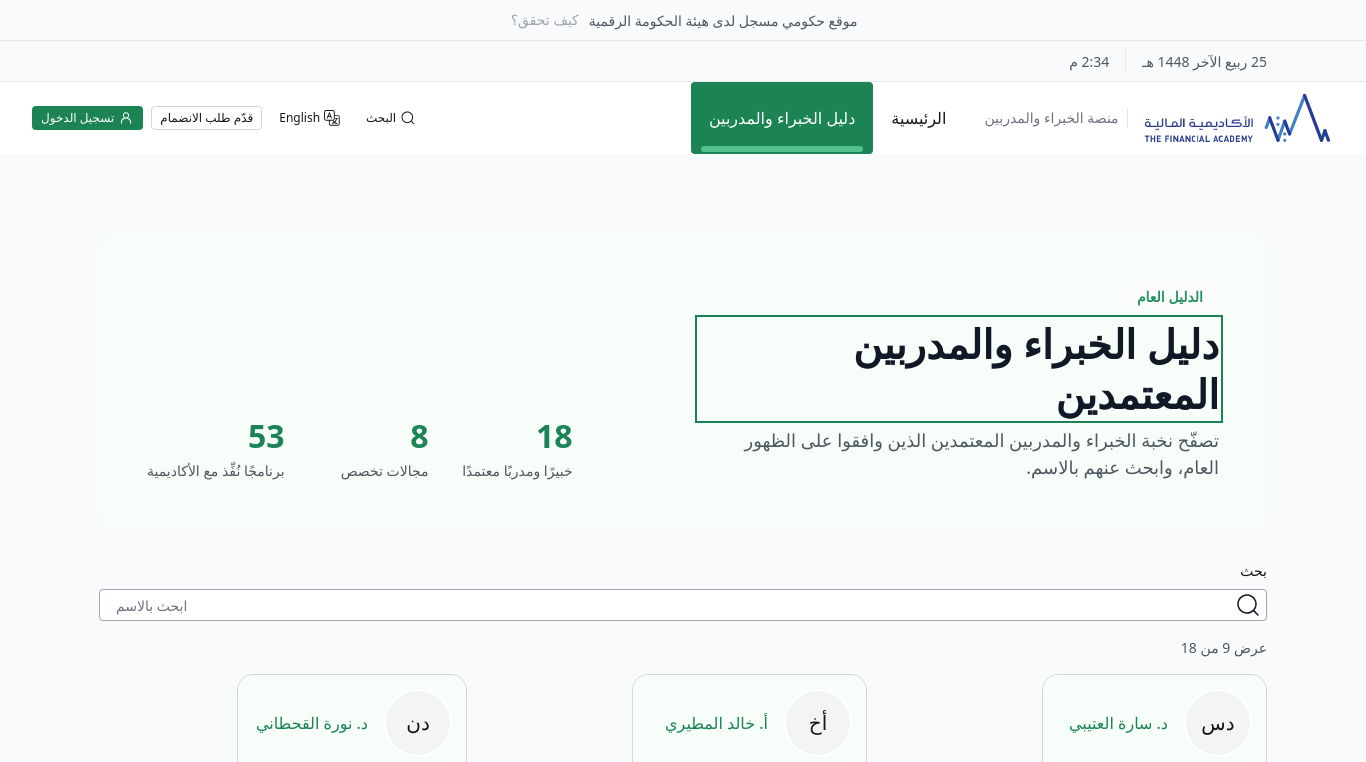
Test case: EH-PUB-02 — Trainer Directory › shows the empty state with a working clear-filters action
The width and height of the screenshot is (1366, 762).
Expected: the heading "دليل الخبراء والمدربين المعتمدين" is shown, 853,316 -> 1219,421
Type "لا-يوجد-مطابق-إطلاقًا" into the search field labelled "بحث". click: x=673, y=605
box: 116,590 -> 1230,620
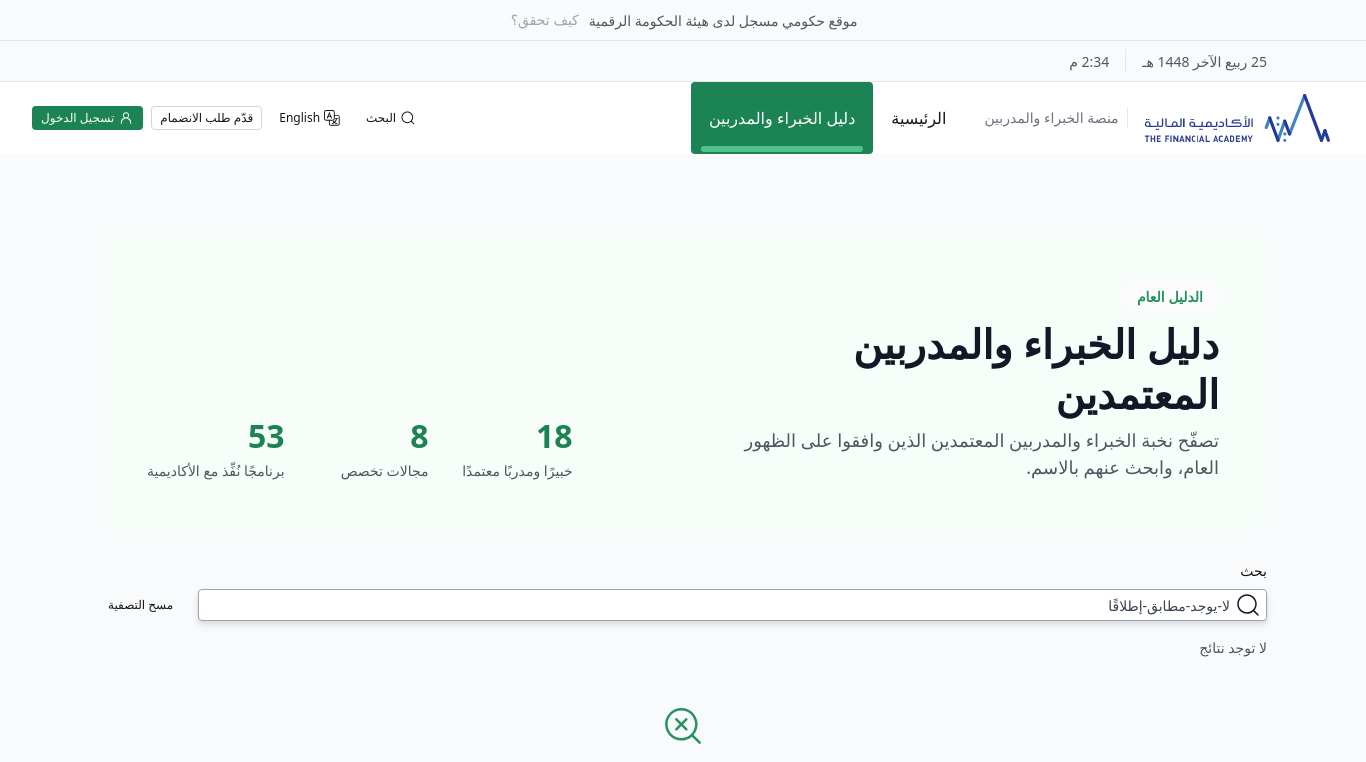
Note: "Clear" appears in both the Filter Bar and the empty state — either resets.
Click the button "مسح التصفية". click: x=141, y=605
box: 99,593 -> 182,617
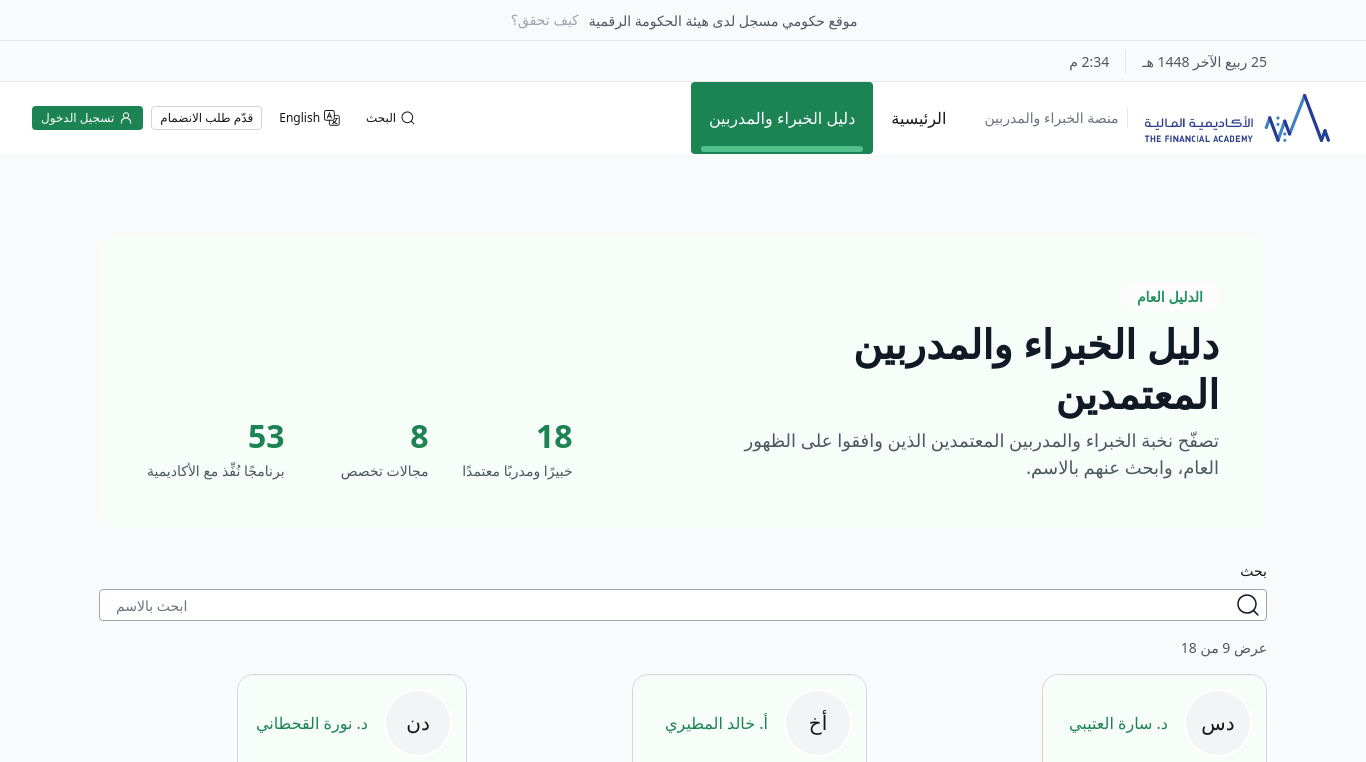
Now the text "د. سارة العتيبي" is shown, box 1069,711 -> 1168,735
